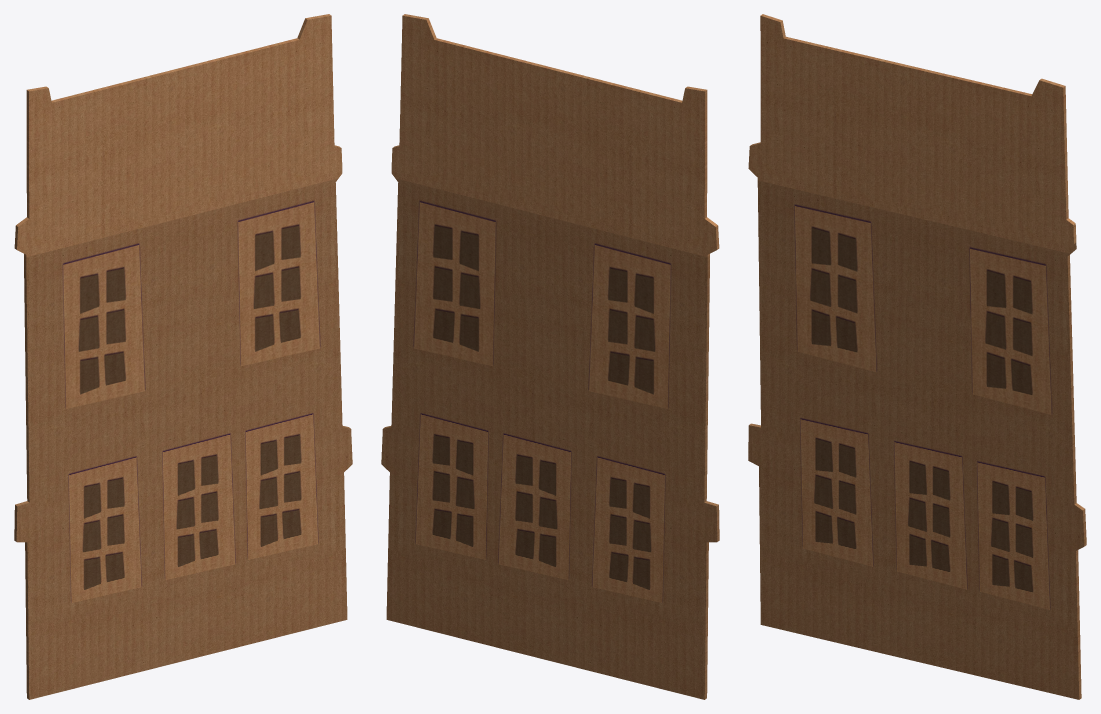
Rendered from house_1.FBX.
3 renders of one model, left to right at view 1: azimuth 30°, elevation 25°; view 2: azimuth 150°, elevation 25°; view 3: azimuth 330°, elevation 25°, orthographic.
Parts seen in each view (by area): view 1: house_1; view 2: house_1; view 3: house_1.
Boxes of the visible parts, left/top/right/bottom form: house_1: left=14, top=14, right=352, bottom=699; house_1: left=381, top=14, right=719, bottom=699; house_1: left=748, top=14, right=1086, bottom=699.
Bounding box in the file's own units: 580 × 1010 × 7.
1 material, 1 textured.
